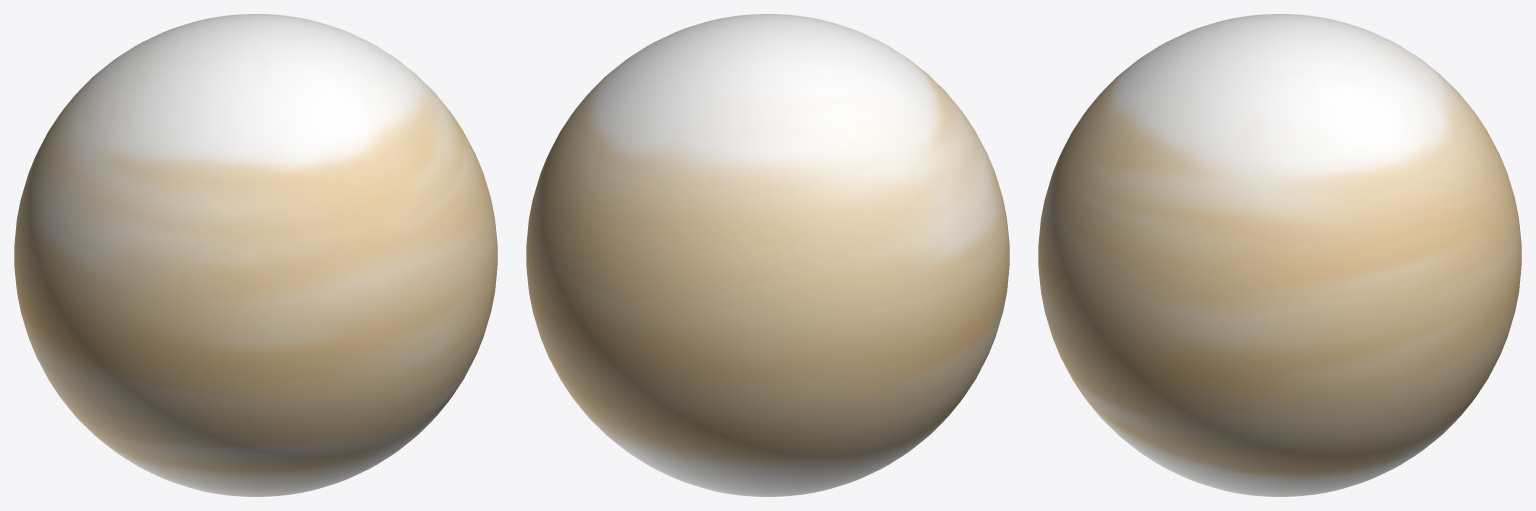
Rendered from Venus.gltf.
The picture shows the model from 3 angles, left to right: view 1: azimuth 30°, elevation 25°; view 2: azimuth 150°, elevation 25°; view 3: azimuth 270°, elevation 25°; orthographic projection.
Parts seen in each view (by area): view 1: Venus; view 2: Venus; view 3: Venus.
Part boxes in pixels (box(x1,y1,x2,y2)): Venus: box(14, 14, 497, 496); Venus: box(526, 14, 1009, 496); Venus: box(1038, 14, 1521, 496).
Size of the model in its own units: 0.9498 by 0.9498 by 0.9498.
Materials: 1 (1 with a texture image).
